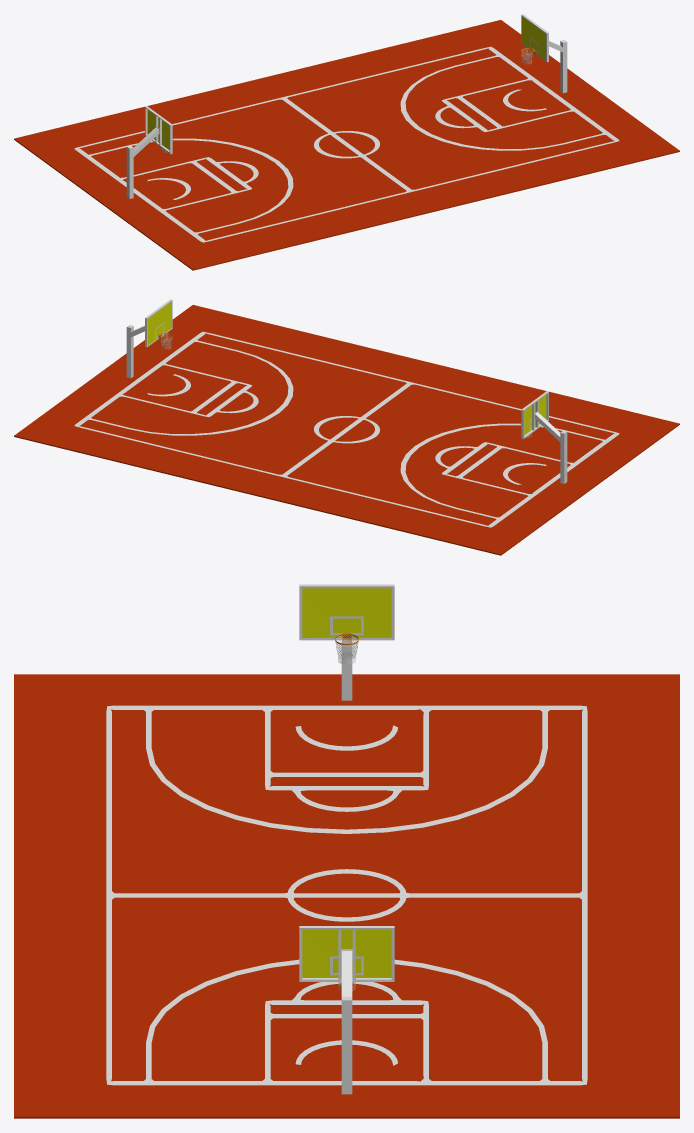
File: Cancha.fbx
3 renders of one model, top to bottom at view 1: azimuth 30°, elevation 25°; view 2: azimuth 150°, elevation 25°; view 3: azimuth 270°, elevation 25°, orthographic. The views are drawn at different scales.
Parts seen in each view (by area): view 1: Terreno, Lineas, CanastaVisita|BézierCircle_L_Canasta2.blend|Dupli|, CanastaLocal|BézierCircle_L_Canasta2.blend|Dupli|; view 2: Terreno, Lineas, CanastaVisita|BézierCircle_L_Canasta2.blend|Dupli|, CanastaLocal|BézierCircle_L_Canasta2.blend|Dupli|; view 3: Terreno, Lineas, CanastaVisita|BézierCircle_L_Canasta2.blend|Dupli|, CanastaLocal|BézierCircle_L_Canasta2.blend|Dupli|.
Boxes of the visible parts, box(x1,y1,x2,y2) form: Terreno: box(14, 20, 679, 270); Lineas: box(74, 46, 619, 242); CanastaVisita|BézierCircle_L_Canasta2.blend|Dupli|: box(520, 14, 567, 93); CanastaLocal|BézierCircle_L_Canasta2.blend|Dupli|: box(126, 106, 173, 198); Terreno: box(14, 305, 679, 555); Lineas: box(74, 331, 619, 527); CanastaVisita|BézierCircle_L_Canasta2.blend|Dupli|: box(126, 299, 173, 378); CanastaLocal|BézierCircle_L_Canasta2.blend|Dupli|: box(520, 391, 567, 483); Terreno: box(14, 674, 679, 1118); Lineas: box(106, 705, 587, 1085); CanastaVisita|BézierCircle_L_Canasta2.blend|Dupli|: box(299, 926, 394, 1094); CanastaLocal|BézierCircle_L_Canasta2.blend|Dupli|: box(299, 584, 394, 700).
Bounding box in the file's own units: 3300 × 493 × 2100.
